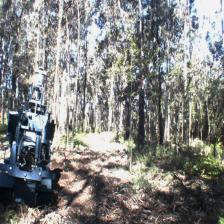trunktrack_idkeyframe: (138, 103, 144, 148)
